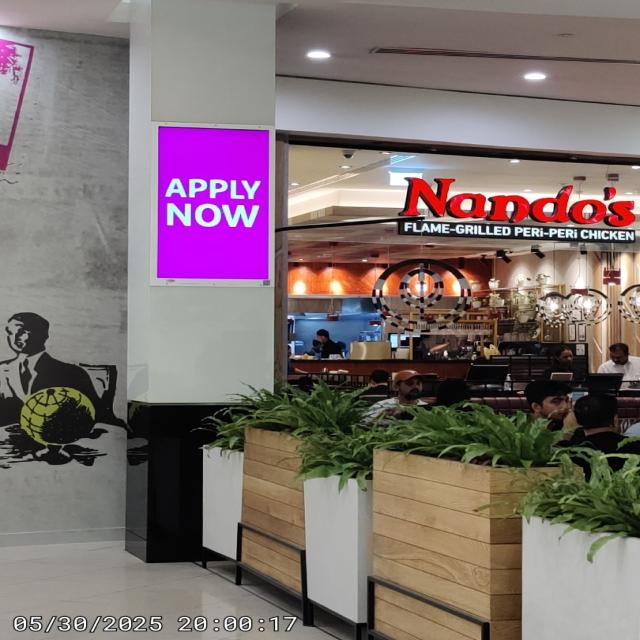digital-board: (157, 122, 269, 281)
